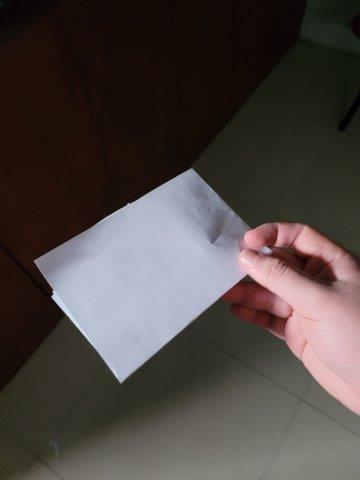kertas: (37, 167, 273, 384)
